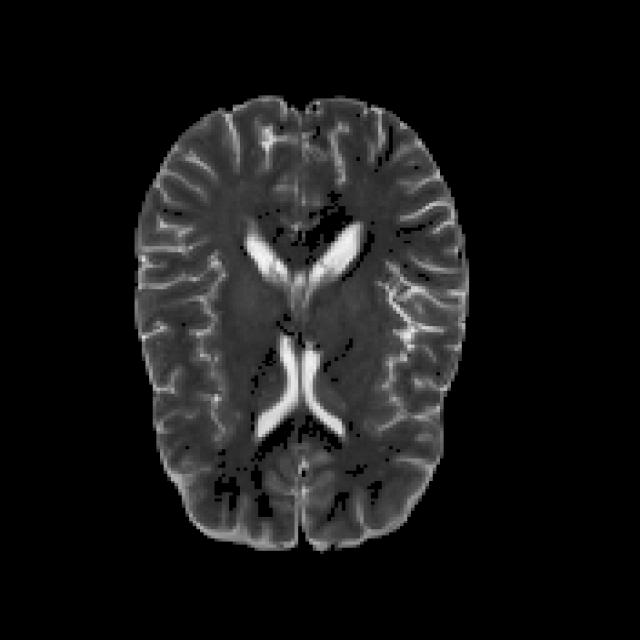parkinson: (131, 92, 469, 551)
